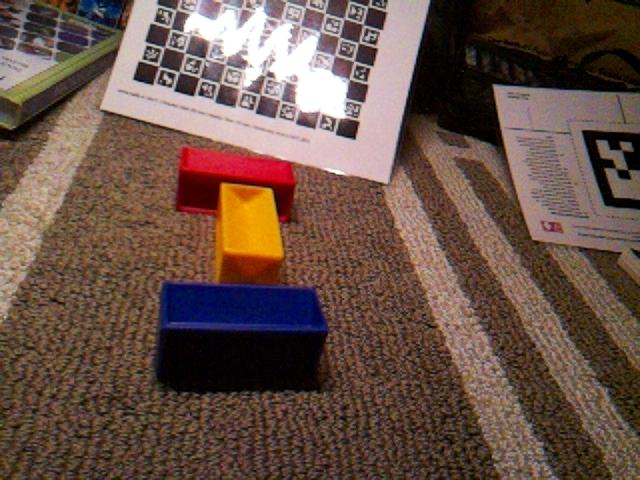blue: (154, 278, 330, 394)
red: (174, 144, 298, 223)
yellow: (213, 181, 286, 285)
